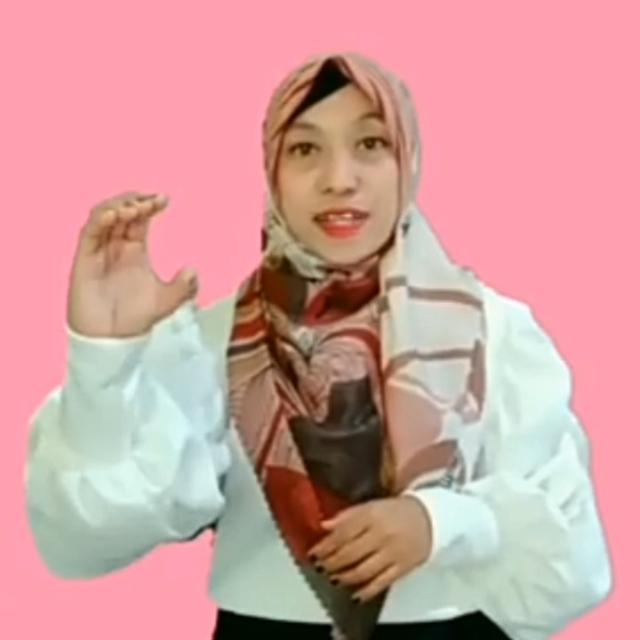C: (65, 188, 197, 328)
